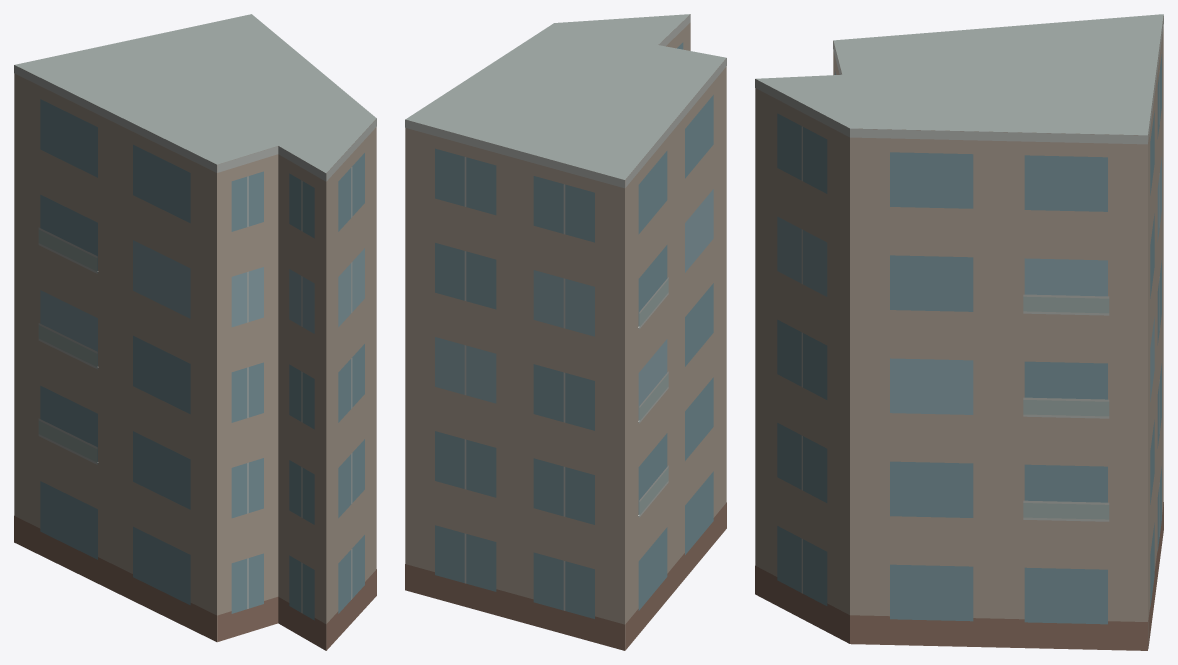
File: survey-upis-32772577.glb
3 views of the same model, side by side, from view 1: azimuth 30°, elevation 25°; view 2: azimuth 150°, elevation 25°; view 3: azimuth 270°, elevation 25° (orthographic). The views are drawn at different scales.
Visible parts, largest first — view 1: survey-upis-32772577.tmp; view 2: survey-upis-32772577.tmp; view 3: survey-upis-32772577.tmp.
Boxes of the visible parts, bbox=[...] form: survey-upis-32772577.tmp: bbox=[14, 14, 376, 650]; survey-upis-32772577.tmp: bbox=[405, 14, 726, 650]; survey-upis-32772577.tmp: bbox=[755, 14, 1163, 650].
Size of the model in its own units: 7.01 by 13.87 by 9.97.
